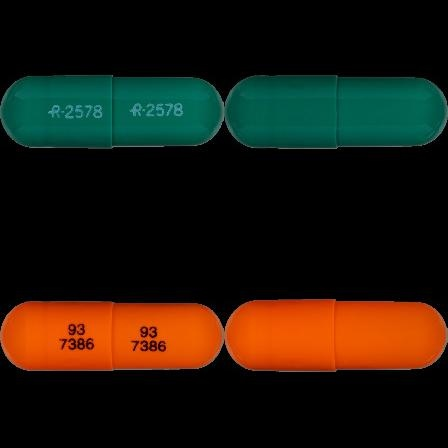50436-6126: (0, 0, 224, 224)
